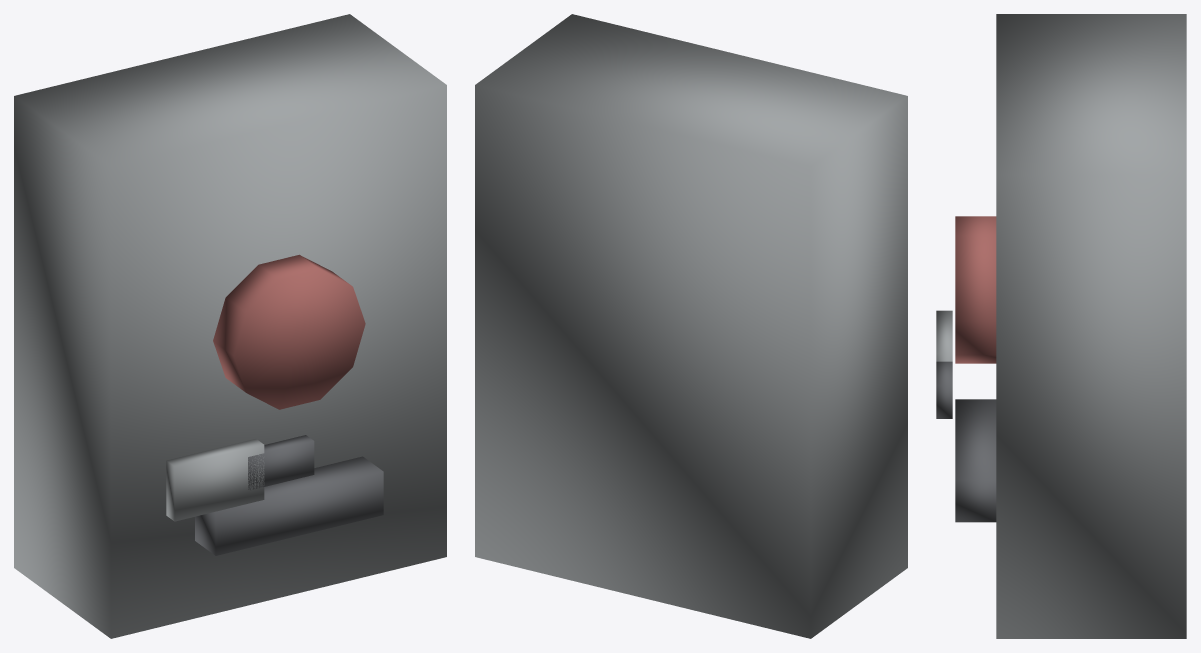
The model's file is push_button_station__weathered.glb.
3 views of the same model, side by side, from view 1: azimuth 30°, elevation 25°; view 2: azimuth 150°, elevation 25°; view 3: azimuth 270°, elevation 25° (orthographic).
Parts seen in each view (by area): view 1: world; view 2: world; view 3: world.
Boxes of the visible parts, x1,y1,x2,y2 form: world: (14,14,446,638); world: (475,14,907,638); world: (936,14,1186,638).
Size of the model in its own units: 0.28 by 0.3762 by 0.184.
